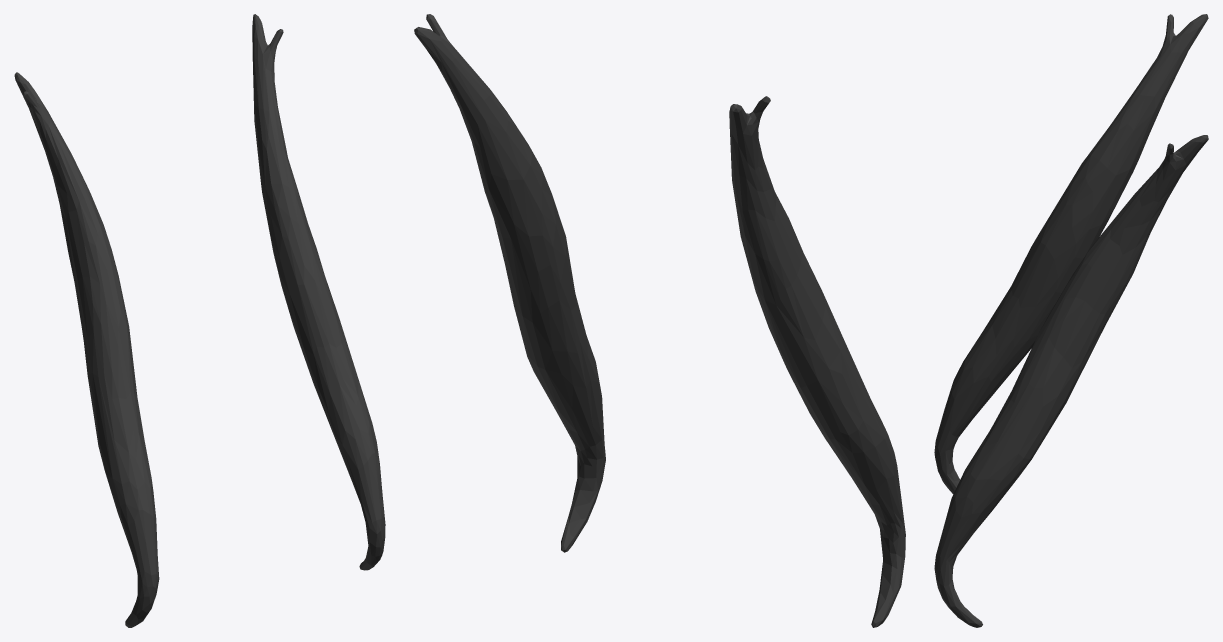
Rendered from m_biceps_brachii.glb.
The picture shows the model from 3 angles, left to right: view 1: azimuth 30°, elevation 25°; view 2: azimuth 150°, elevation 25°; view 3: azimuth 270°, elevation 25°; orthographic projection. The views are drawn at different scales.
Visible parts, largest first — view 1: m_biceps_brachii; view 2: m_biceps_brachii; view 3: m_biceps_brachii.
Part boxes in pixels (x1,y1,x2,y2): m_biceps_brachii: [14, 14, 385, 627]; m_biceps_brachii: [414, 14, 905, 627]; m_biceps_brachii: [934, 14, 1208, 627].
Size of the model in its own units: 0.00319 by 0.00559 by 0.00281.
1 material, 1 textured.
